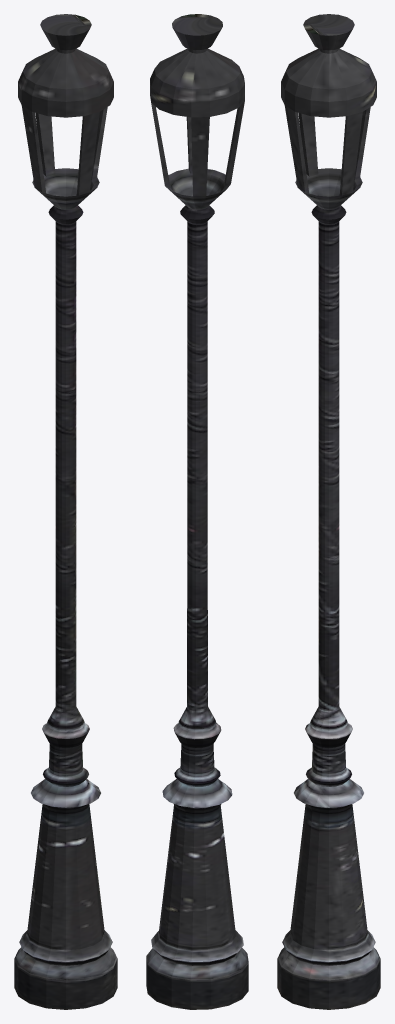
Rendered from Lampadaire.fbx.
3 views of the same model, side by side, from view 1: azimuth 90°, elevation 25°; view 2: azimuth 150°, elevation 25°; view 3: azimuth 270°, elevation 25° (orthographic).
Visible parts, largest first — view 1: Cylinder; view 2: Cylinder; view 3: Cylinder.
Boxes of the visible parts, left/top/right/bottom form: Cylinder: left=14, top=14, right=117, bottom=1009; Cylinder: left=146, top=14, right=248, bottom=1009; Cylinder: left=277, top=14, right=380, bottom=1009.
Size of the model in its own units: 0.4996 by 0.4996 by 5.15.
Materials: 1 (1 with a texture image).
